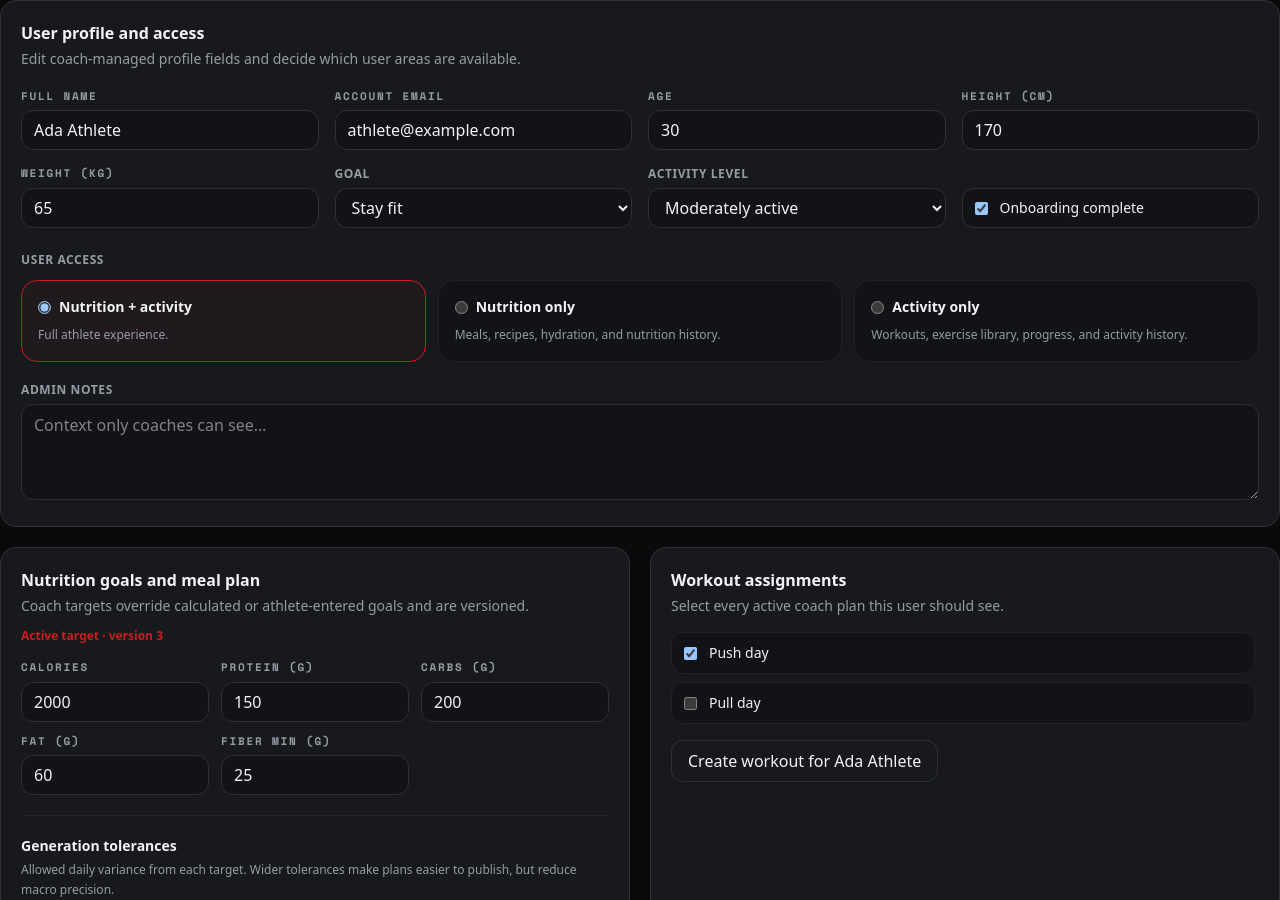
Scenario: AthleteManagementPanel › disables Save changes while the dirty macros section fails validation
Replace the text in the number field labelled "Calories" with "0" at [115, 702], box left=21, top=682, right=209, bottom=722
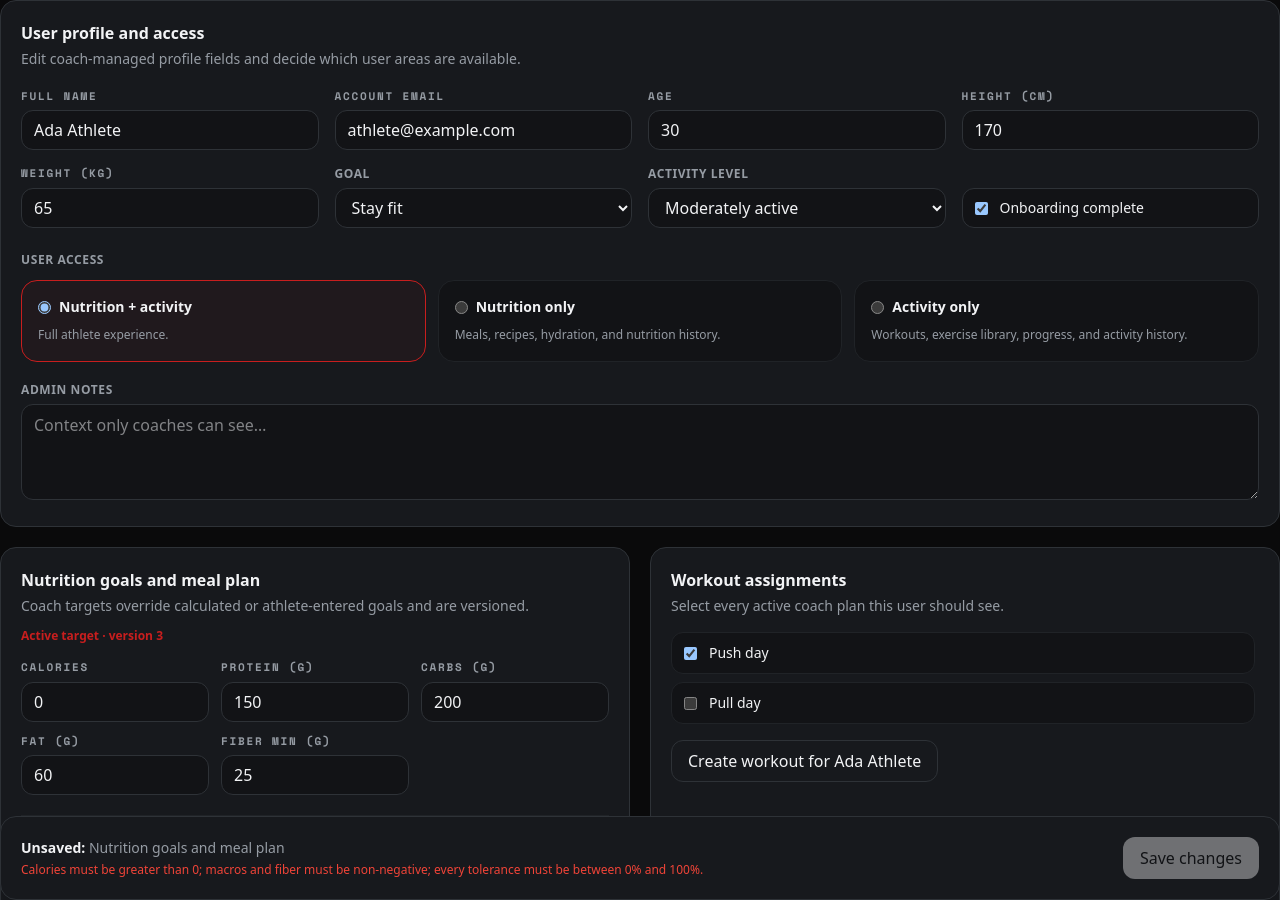
expect the text "Unsaved:" shows "Nutrition goals and meal plan": met, box left=89, top=838, right=284, bottom=857
expect the button "Save changes" is disabled: met, box left=1123, top=837, right=1259, bottom=879
